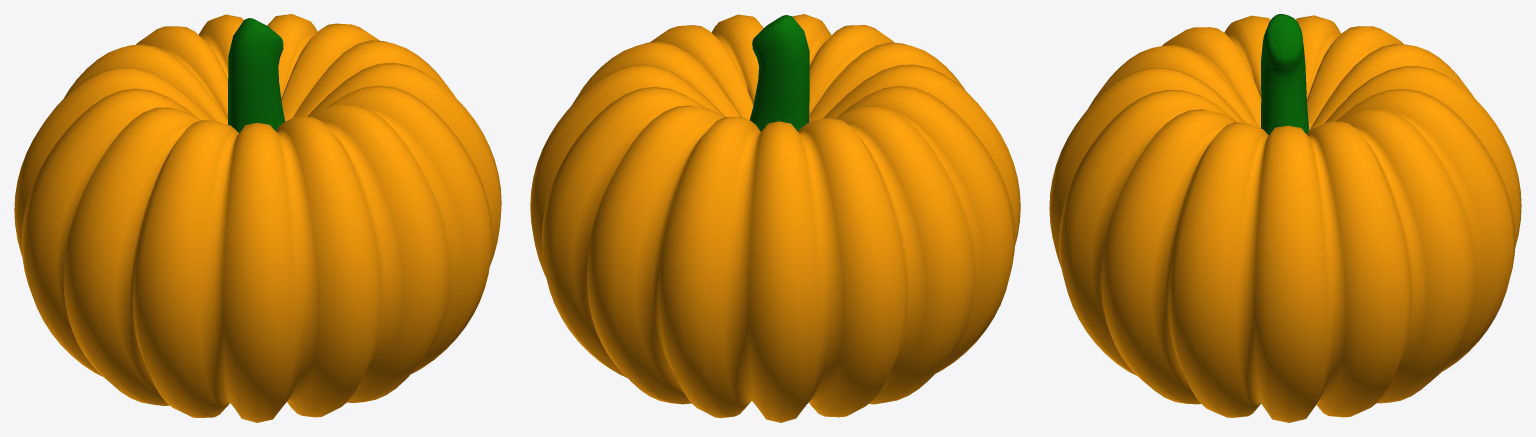
File: Labu.fbx
The picture shows the model from 3 angles, left to right: view 1: azimuth 30°, elevation 25°; view 2: azimuth 150°, elevation 25°; view 3: azimuth 270°, elevation 25°; orthographic projection.
Visible parts, largest first — view 1: pSphere4; view 2: pSphere4; view 3: pSphere4.
Boxes of the visible parts, <box> form: pSphere4: <box>14,14,501,422</box>; pSphere4: <box>530,14,1020,422</box>; pSphere4: <box>1049,14,1521,422</box>.
Size of the model in its own units: 5.51 by 4.37 by 5.35.
